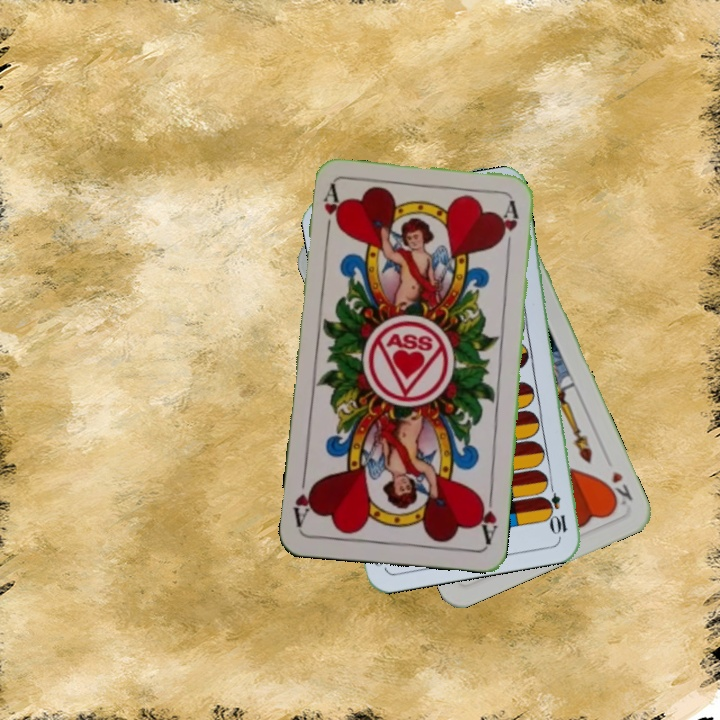E10: (543, 478, 570, 537)
HA: (473, 487, 501, 547), (319, 182, 342, 241)
HK: (608, 467, 636, 504)
